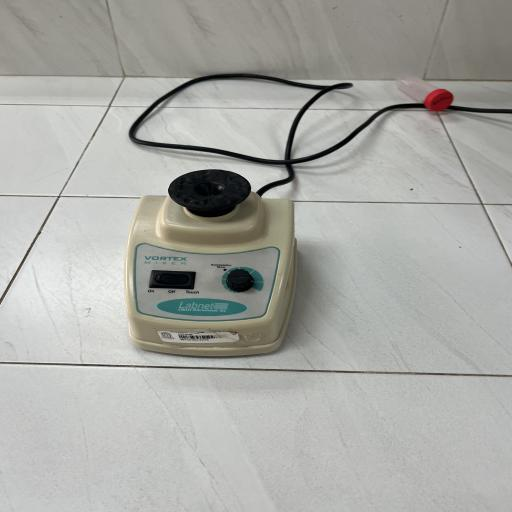Vortex_Mixer_LabNet: (104, 159, 318, 364)
